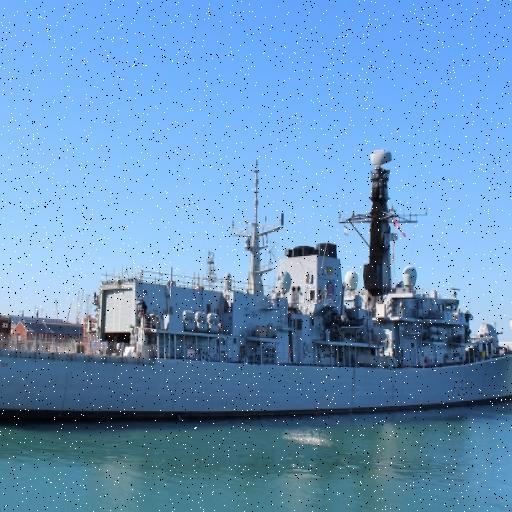Fragata: (1, 139, 512, 436)
